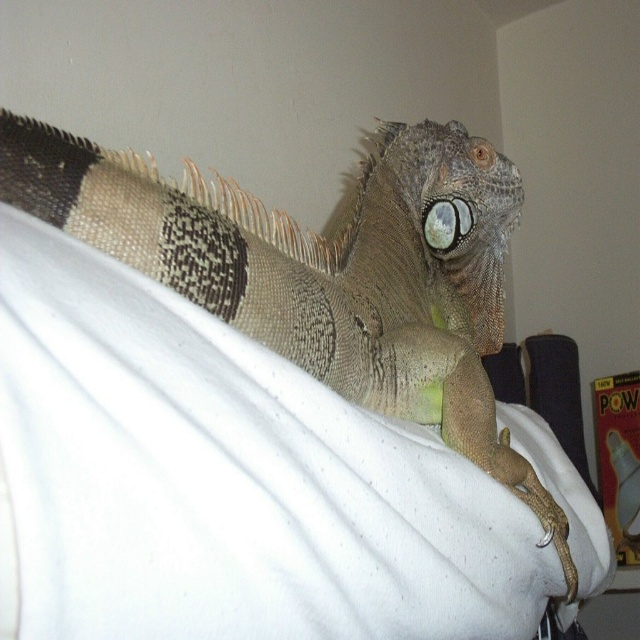Lizard: (27, 86, 573, 528)
